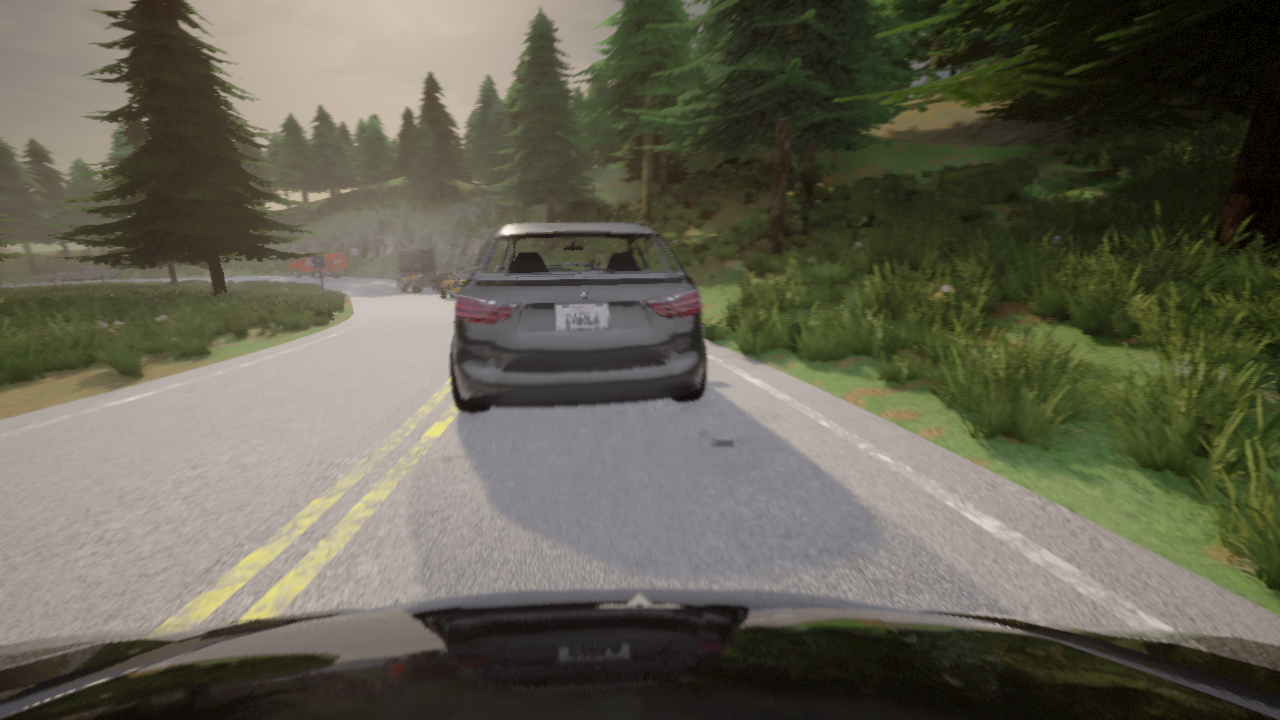cyclist: (0, 588, 1279, 719), (450, 222, 706, 412), (391, 248, 447, 293), (285, 253, 348, 279), (42, 266, 123, 284), (440, 268, 470, 299)
